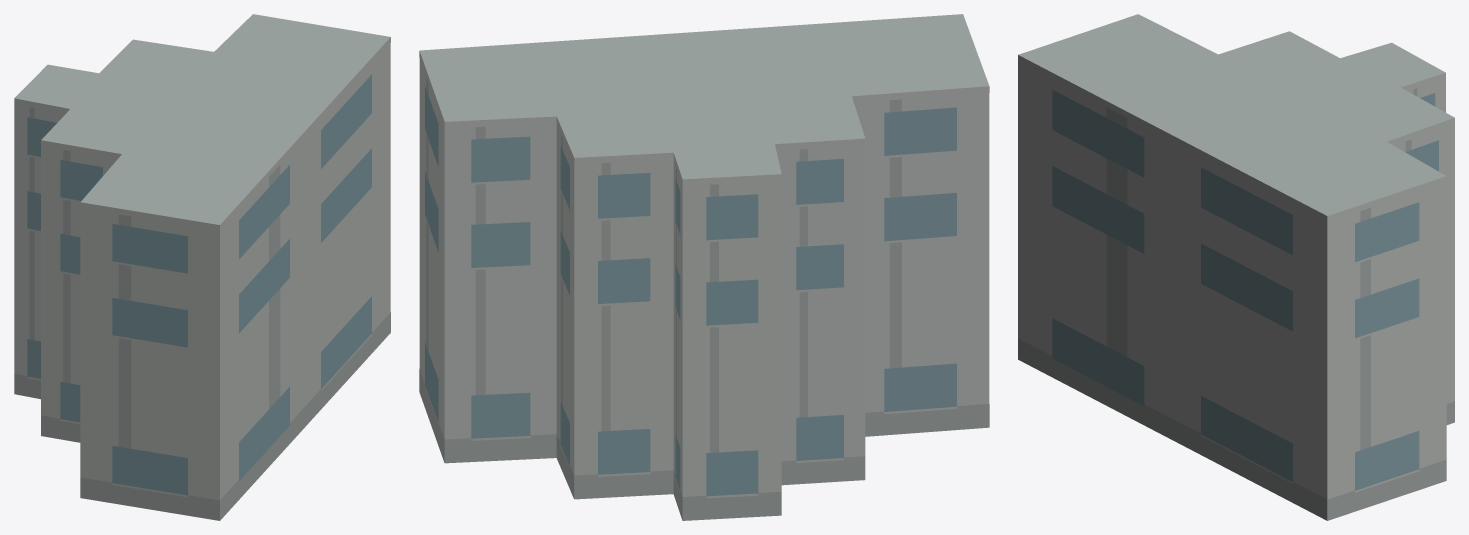
Rendered from survey-upis-32991626.glb.
The picture shows the model from 3 angles, left to right: view 1: azimuth 30°, elevation 25°; view 2: azimuth 150°, elevation 25°; view 3: azimuth 270°, elevation 25°; orthographic projection. The views are drawn at different scales.
Parts seen in each view (by area): view 1: survey-upis-32991626.tmp; view 2: survey-upis-32991626.tmp; view 3: survey-upis-32991626.tmp.
Boxes of the visible parts, x1,y1,x2,y2 form: survey-upis-32991626.tmp: [14, 14, 390, 520]; survey-upis-32991626.tmp: [419, 14, 989, 520]; survey-upis-32991626.tmp: [1018, 14, 1454, 520].
Bounding box in the file's own units: 17.36 × 12.2 × 15.85.
